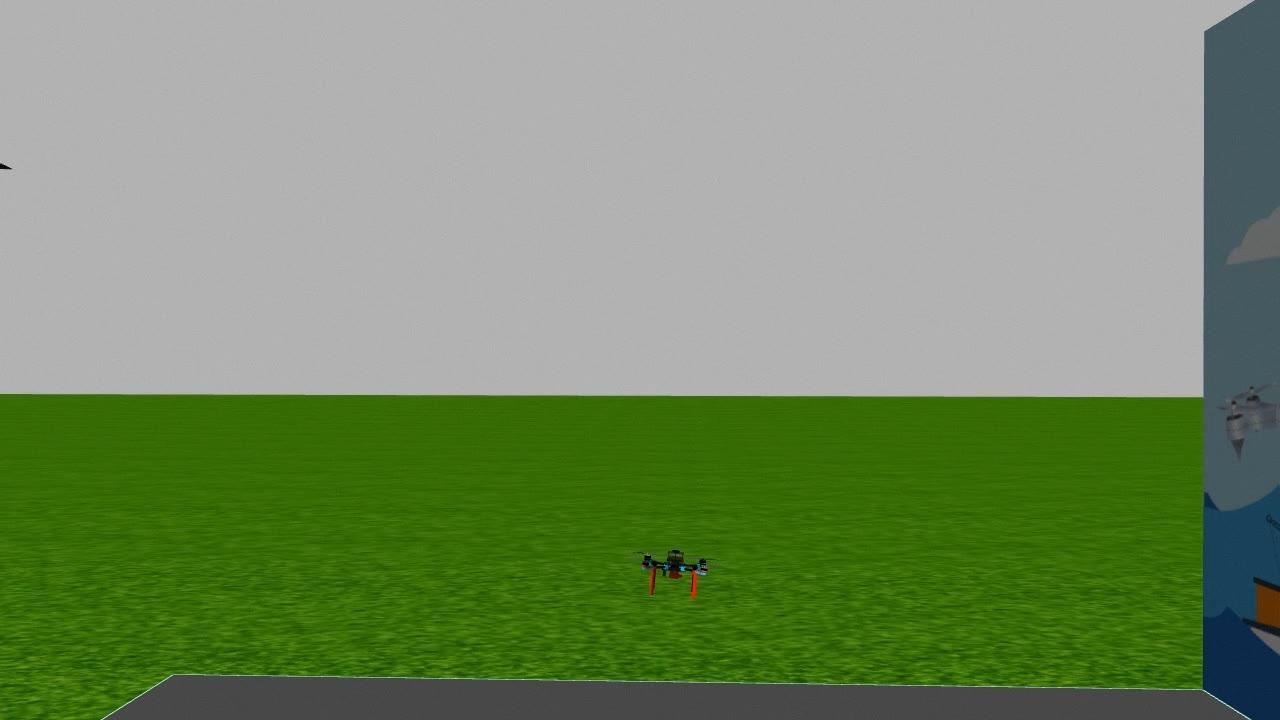UAV: (628, 539, 718, 599)
